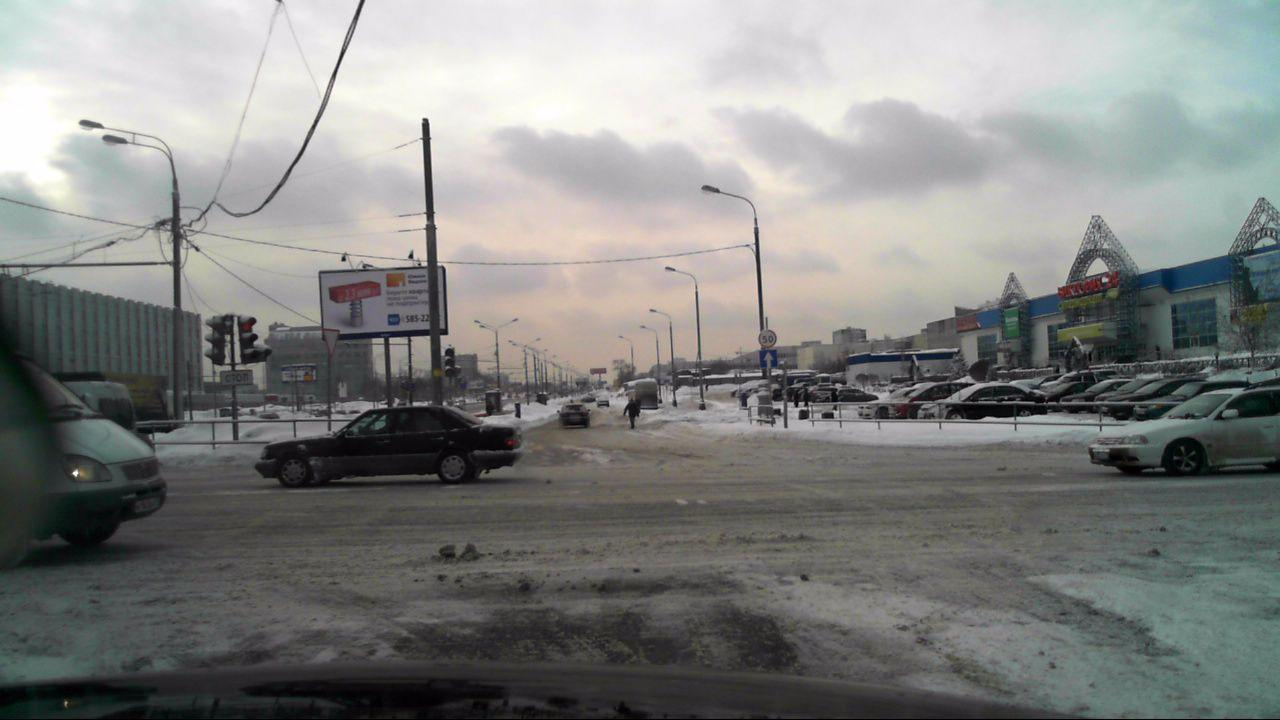2_4: (324, 326, 342, 355)
3_24: (757, 329, 777, 347)
5_5: (757, 348, 778, 369)
6_16: (220, 368, 254, 386)
